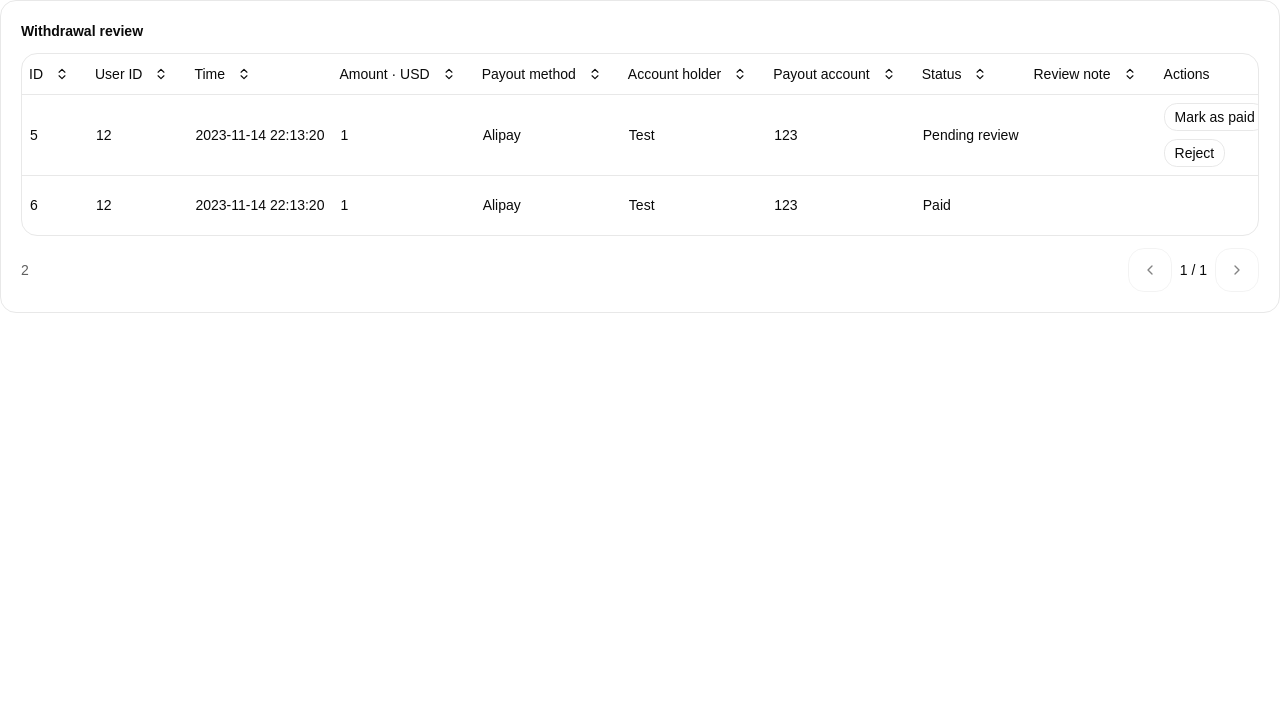
Test case: requires a payment reference before an administrator confirms a payout
Click the button "Mark as paid": (1215, 116) [1164, 102, 1266, 130]
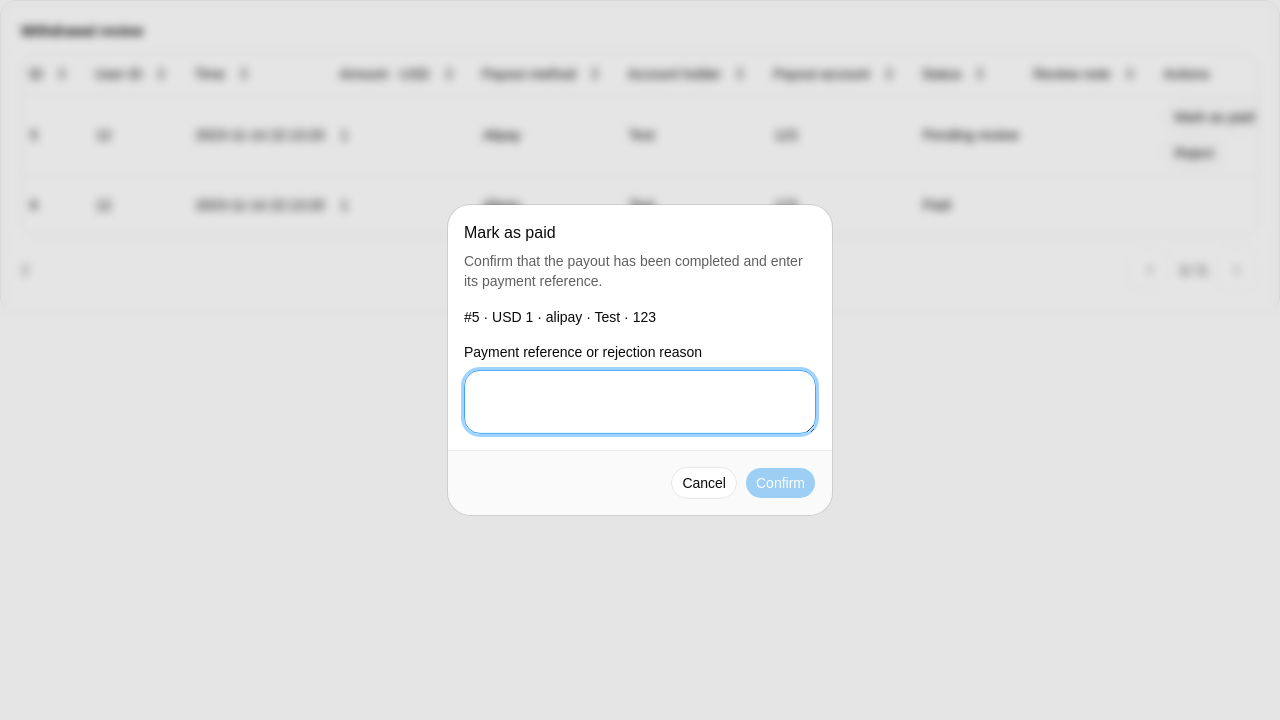
Expected: the button "Confirm" is disabled, [745, 467, 816, 499]
In the text box labelled "Payment reference or rejection reason": (640, 402) [464, 370, 816, 434], type "bank-reference"
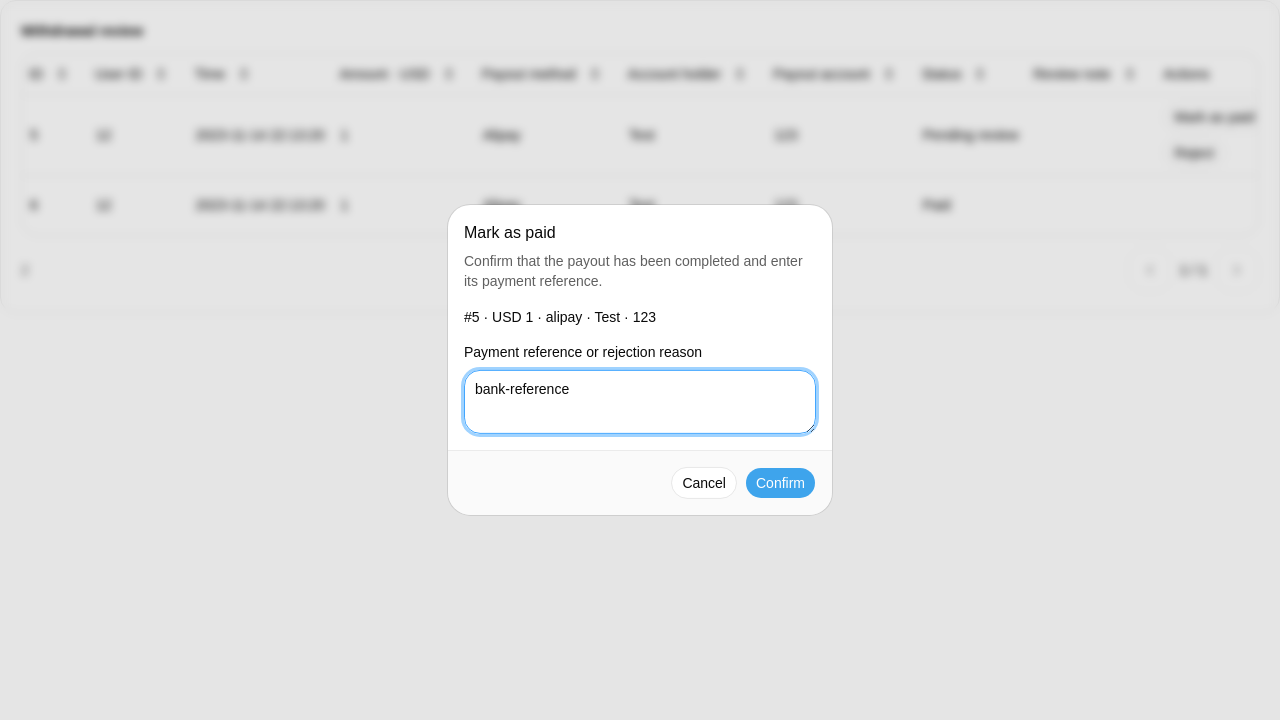
Expected: the button "Confirm" is enabled, [745, 467, 816, 499]
